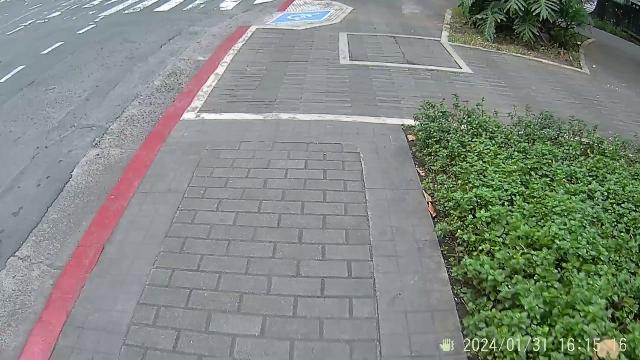potted_plant: (455, 1, 601, 75)
